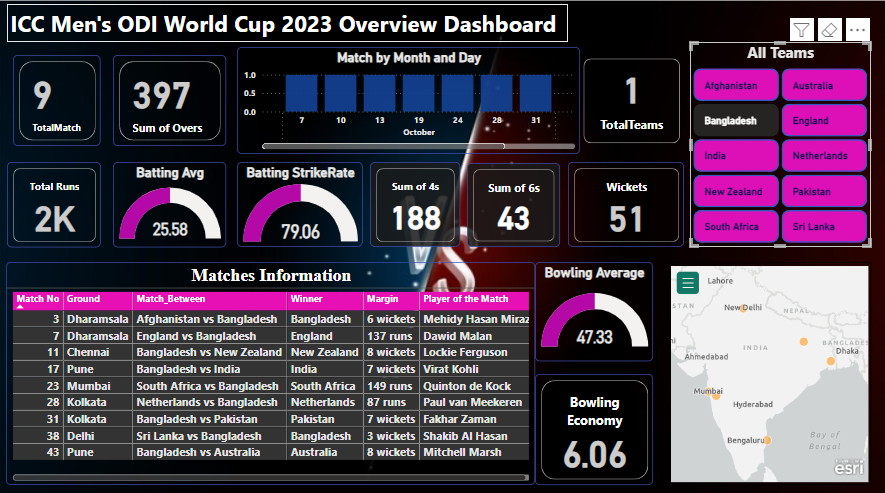

This screenshot's page, from the dashboard's own definition file:
{"tool":"powerbi","page":{"name":"ICC World Cup 2023 Overall Tournament Overview","canvas":[1280,720],"ordinal":0},"visuals":[{"type":"cardVisual","fields":{"Data":["Sum(bowling_summary.Overs)"]},"box":[165.9,84.1,162.5,130.7],"z":0},{"type":"cardVisual","fields":{"Data":["Key_Measures.wickets"]},"box":[820.8,237.6,167,122.4],"z":1000},{"type":"cardVisual","fields":{"Data":["Key_Measures.Total Runs"]},"box":[12.5,237.5,135.2,122.7],"z":2000},{"type":"lineClusteredColumnComboChart","title":"Match by Month and Day","fields":{"Category":["matches_schedule_results.Date.Variation.Date Hierarchy.Month","matches_schedule_results.Date.Variation.Date Hierarchy.Day"],"Y":["CountNonNull(matches_schedule_results.Match No)"]},"box":[344.2,72,493.9,154.1],"z":3000},{"type":"tableEx","title":"     Matches Information","fields":{"Values":["matches_schedule_results.Match No","matches_schedule_results.Ground","batting_summary_out.Match_Between","matches_schedule_results.Winner","matches_schedule_results.Margin","matches_schedule_results.Player of the Match"]},"box":[11.5,381.6,761.8,321.1],"z":4000},{"type":"advancedSlicerVisual","title":"All Teams","fields":{"Values":["world_cup_players_info.team_name"]},"box":[996.5,64.8,260.6,295.2],"z":5000},{"type":"cardVisual","title":"4s","fields":{"Data":["Sum(batting_summary_out.4s)"]},"box":[535.7,237.6,129.6,122.4],"z":6000},{"type":"cardVisual","fields":{"Data":["Sum(batting_summary_out.6s)"]},"box":[675.4,239,133.9,121],"z":7000},{"type":"cardVisual","fields":{"Data":["Key_Measures.TotalTeams"]},"box":[838.1,83.5,149.8,132.5],"z":8000},{"type":"cardVisual","fields":{"Data":["Key_Measures.TotalMatchesCount"]},"box":[21.6,84.1,126.1,130.7],"z":9000},{"type":"cardVisual","fields":{"Data":["Key_Measures.Economy"]},"box":[773.1,543.3,170.1,159.7],"z":10000},{"type":"gauge","fields":{"Y":["Key_Measures.Bowling Average"]},"box":[773.3,381.6,169.9,142.6],"z":11000},{"type":"gauge","fields":{"Y":["Key_Measures.Batting Avg"]},"box":[165.9,237.5,162.5,122.7],"z":12000},{"type":"gauge","fields":{"Y":["Key_Measures.Strike rate"]},"box":[344.2,237.6,181.4,122.4],"z":13000},{"type":"textbox","box":[12.5,10.2,808,54.5],"z":14000},{"type":"esriVisual","fields":{"Location":["matches_schedule_results.Ground"]},"box":[963.4,381.6,293.8,321.1],"z":15000}]}

Visuals, with their boxes in screenshot pixels (x1, y1, x2, y2), scaled from the page's 1280x720 canvas onto the 885x493 screenshot:
cardVisual - Sum(bowling_summary.Overs): locate(115, 58, 227, 147)
cardVisual - Key_Measures.wickets: locate(568, 163, 683, 246)
cardVisual - Key_Measures.Total Runs: locate(9, 163, 102, 247)
"Match by Month and Day" lineClusteredColumnComboChart: locate(238, 49, 579, 155)
"     Matches Information" tableEx: locate(8, 261, 535, 481)
"All Teams" advancedSlicerVisual: locate(689, 44, 869, 246)
"4s" cardVisual: locate(370, 163, 460, 246)
cardVisual - Sum(batting_summary_out.6s): locate(467, 164, 560, 246)
cardVisual - Key_Measures.TotalTeams: locate(579, 57, 683, 148)
cardVisual - Key_Measures.TotalMatchesCount: locate(15, 58, 102, 147)
cardVisual - Key_Measures.Economy: locate(535, 372, 652, 481)
gauge - Key_Measures.Bowling Average: locate(535, 261, 652, 359)
gauge - Key_Measures.Batting Avg: locate(115, 163, 227, 247)
gauge - Key_Measures.Strike rate: locate(238, 163, 363, 246)
textbox: locate(9, 7, 567, 44)
esriVisual - matches_schedule_results.Ground: locate(666, 261, 869, 481)
